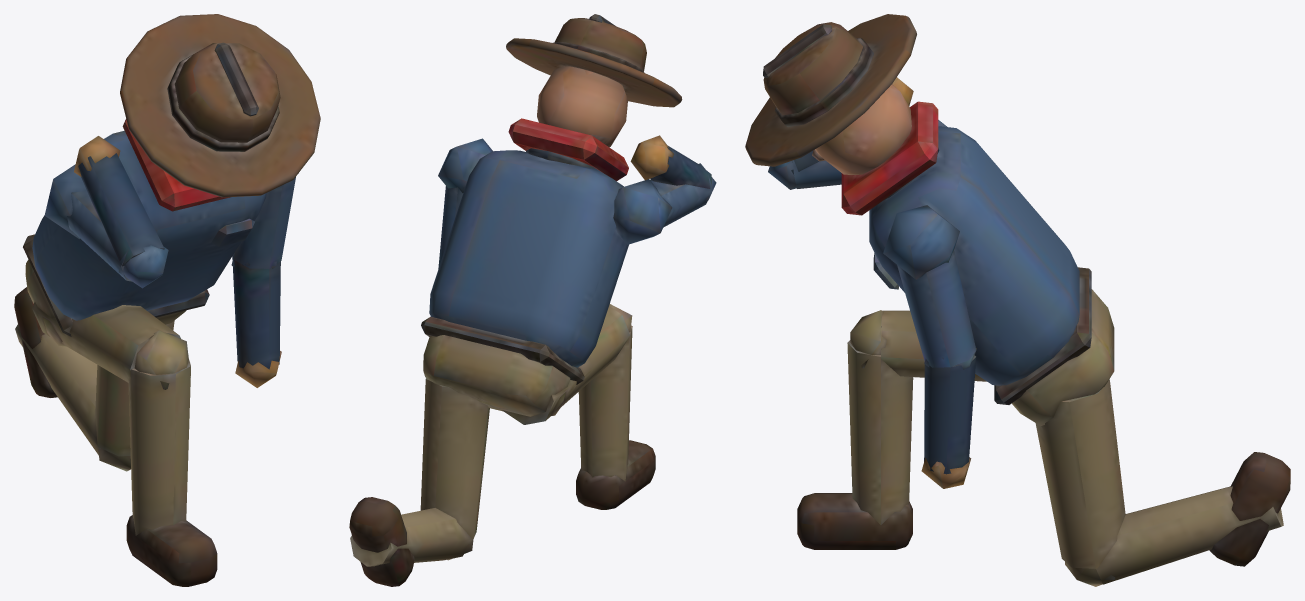
Rendered from farmer_crouch.glb.
3 views of the same model, side by side, from view 1: azimuth 30°, elevation 25°; view 2: azimuth 150°, elevation 25°; view 3: azimuth 270°, elevation 25° (orthographic). The views are drawn at different scales.
Visible parts, largest first — view 1: farmer_crouch; view 2: farmer_crouch; view 3: farmer_crouch.
Part boxes in pixels (left/top/right/bottom): farmer_crouch: left=14, top=14, right=320, bottom=586; farmer_crouch: left=349, top=14, right=716, bottom=586; farmer_crouch: left=745, top=14, right=1290, bottom=586.
Bounding box in the file's own units: 0.6899 × 1.4 × 1.27.
1 material, 1 textured.
